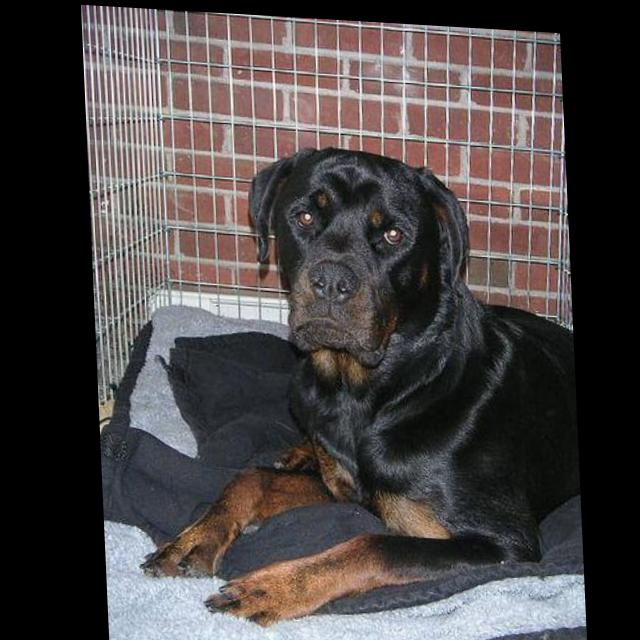rottweiler: (119, 133, 581, 640)
